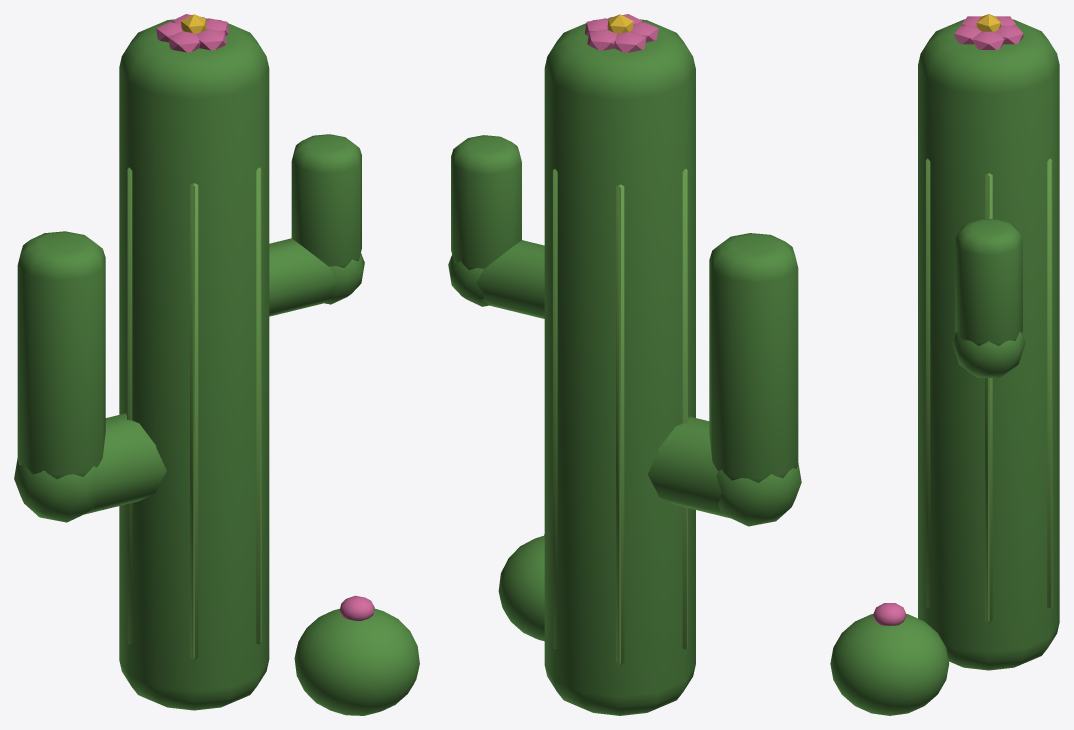
File: p_tree_cactus_2.glb
3 views of the same model, side by side, from view 1: azimuth 30°, elevation 25°; view 2: azimuth 150°, elevation 25°; view 3: azimuth 270°, elevation 25° (orthographic). The views are drawn at different scales.
Parts seen in each view (by area): view 1: body; view 2: body; view 3: body.
Boxes of the visible parts, x1,y1,x2,y2 form: body: (14,14,419,715); body: (448,14,801,715); body: (830,14,1059,715).
Bounding box in the file's own units: 2.6 × 5.03 × 1.62.
